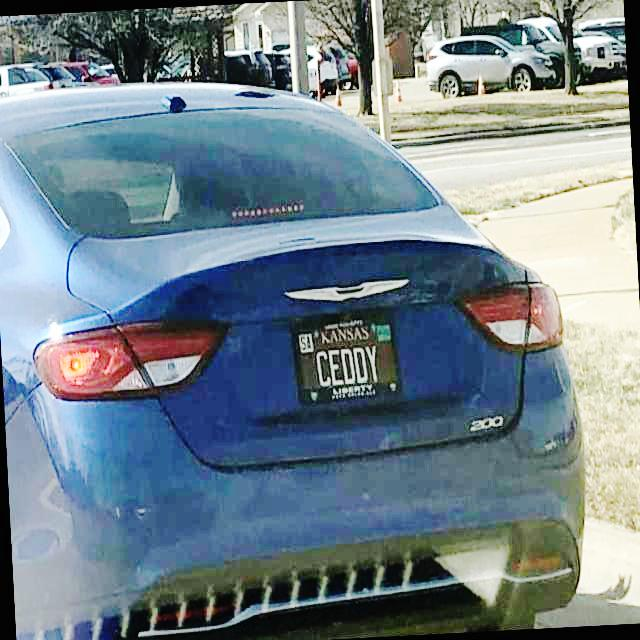license_plate: (301, 325, 402, 396)
